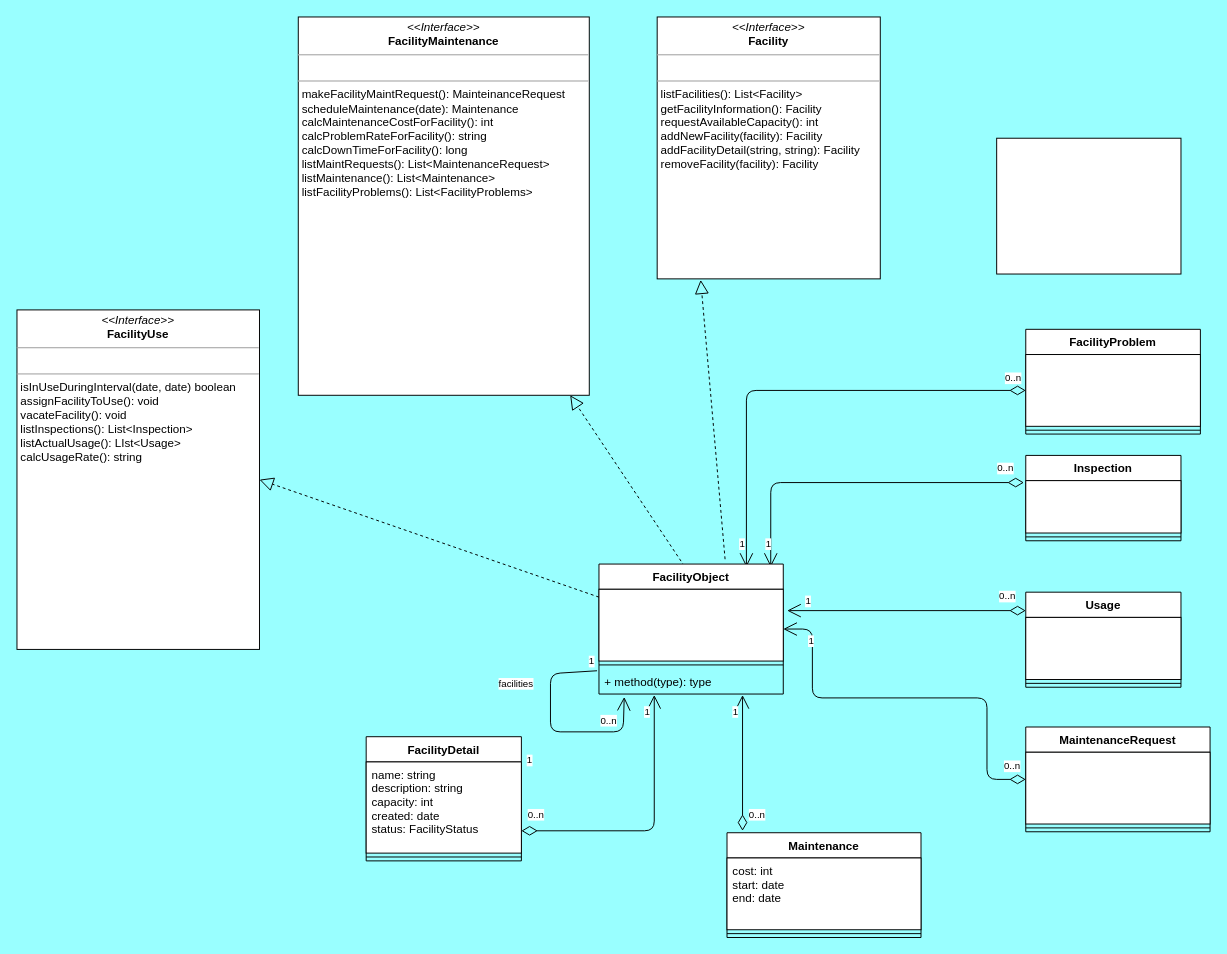
This 1227x954 diagram has some shape labels left out. The shapes that lost their labels are listed below. From the top down, each one's centre as x and y in pixels, then its label:
the point at 1088,205: <<enumeration>> Status IN_USE MAINTENANCE FREE
the point at 1112,390: String description created: date solved: boolean
the point at 1103,506: created: date problemFound: boolean
the point at 690,624: created: date status: FacilityStatus capacity: int
the point at 1103,647: start: date end: date
the point at 1117,787: created: Date
